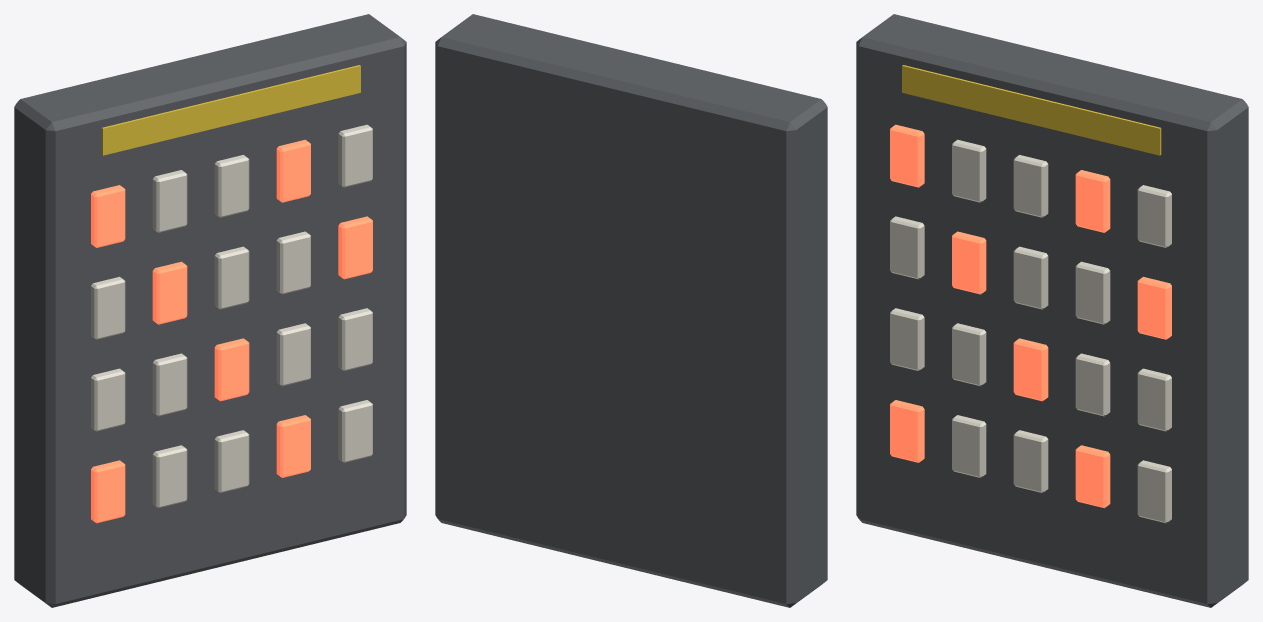
File: fuse_panel.glb
The picture shows the model from 3 angles, left to right: view 1: azimuth 30°, elevation 25°; view 2: azimuth 150°, elevation 25°; view 3: azimuth 330°, elevation 25°; orthographic projection.
Parts seen in each view (by area): view 1: fuse_panel; view 2: fuse_panel; view 3: fuse_panel.
Part boxes in pixels (bbox=[...]): fuse_panel: bbox=[14, 14, 406, 607]; fuse_panel: bbox=[435, 14, 827, 607]; fuse_panel: bbox=[856, 14, 1248, 607].
Bounding box in the file's own units: 0.7 × 0.9 × 0.147.
